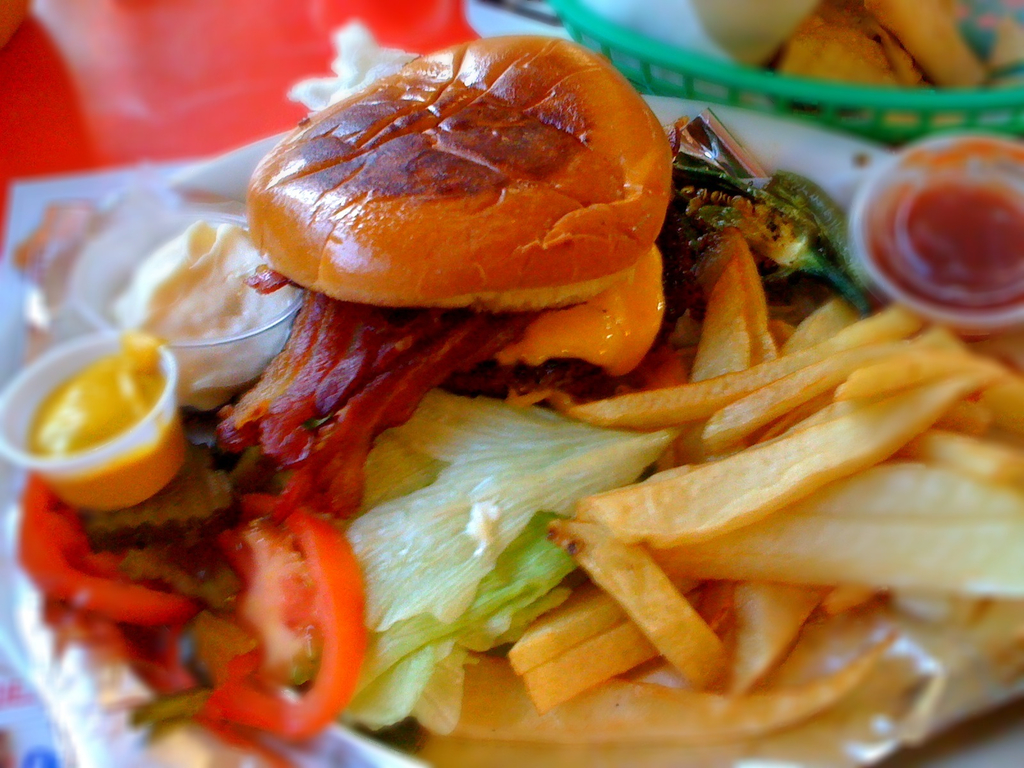French fries: (435, 281, 1014, 721)
